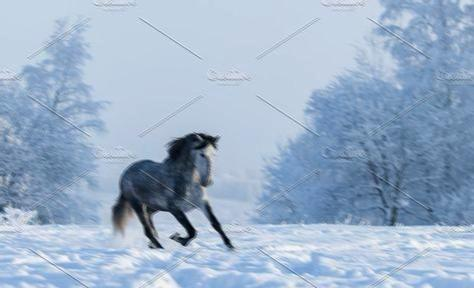horse: (110, 130, 234, 251)
